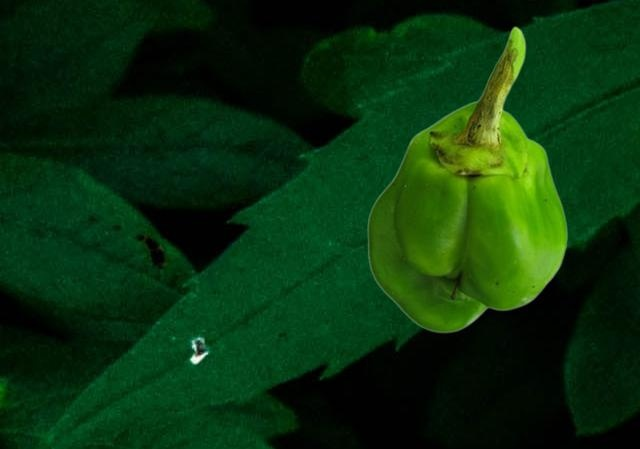bell_pepper: (366, 25, 567, 332)
